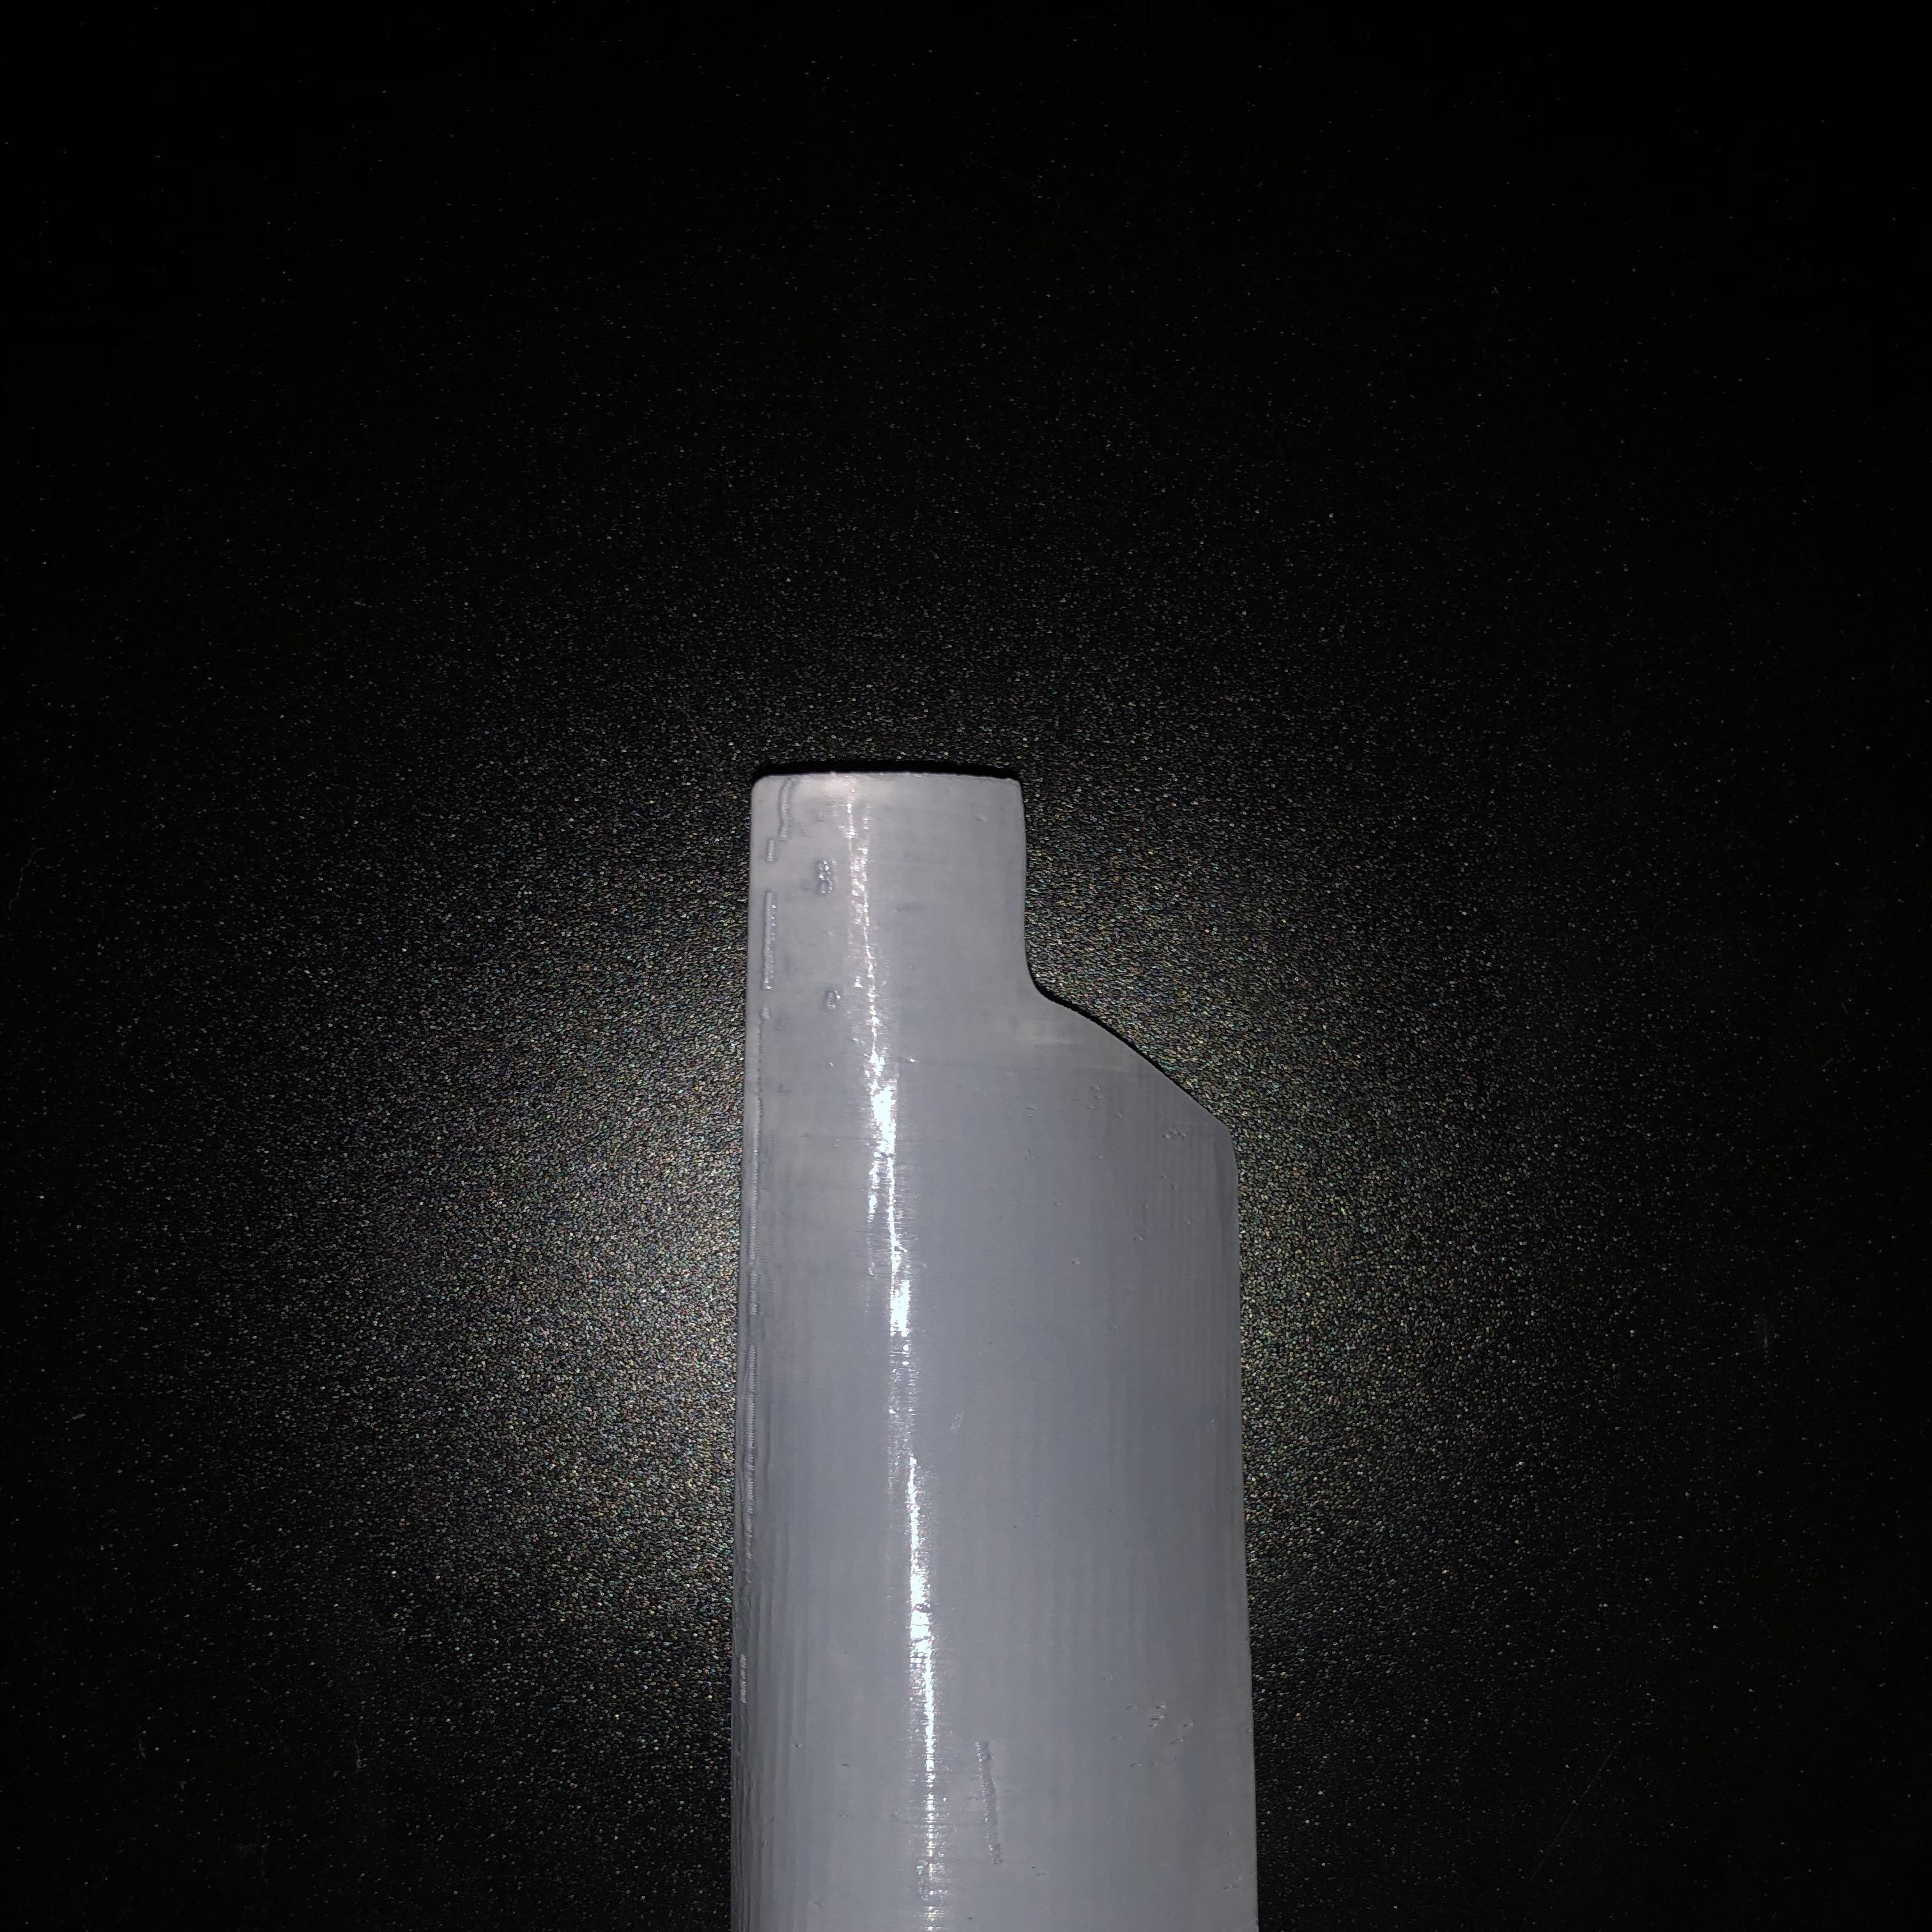fracture: (984, 775, 1224, 1127)
